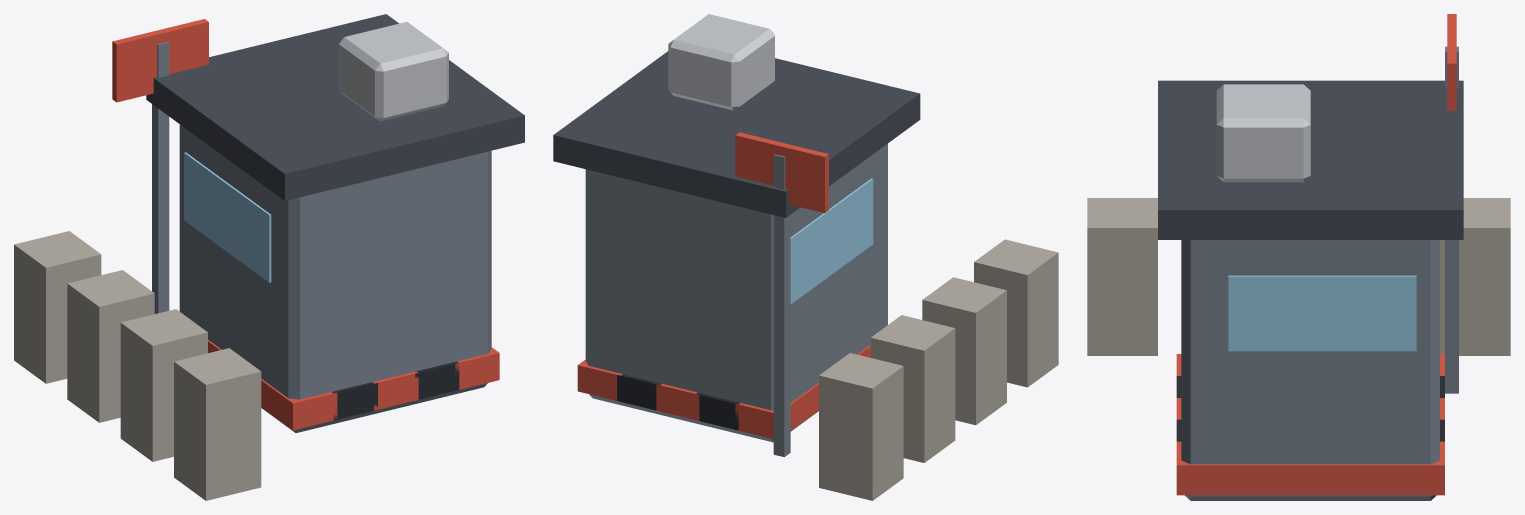
Rendered from checkpoint_industrial.glb.
3 views of the same model, side by side, from view 1: azimuth 30°, elevation 25°; view 2: azimuth 150°, elevation 25°; view 3: azimuth 270°, elevation 25° (orthographic). The views are drawn at different scales.
Visible parts, largest first — view 1: checkpoint_industrial; view 2: checkpoint_industrial; view 3: checkpoint_industrial.
Part boxes in pixels (x1,y1,x2,y2): checkpoint_industrial: [14, 14, 524, 500]; checkpoint_industrial: [553, 14, 1058, 500]; checkpoint_industrial: [1087, 14, 1510, 500].
Bounding box in the file's own units: 1.9 × 1.73 × 1.8.
1 material, 1 textured.
